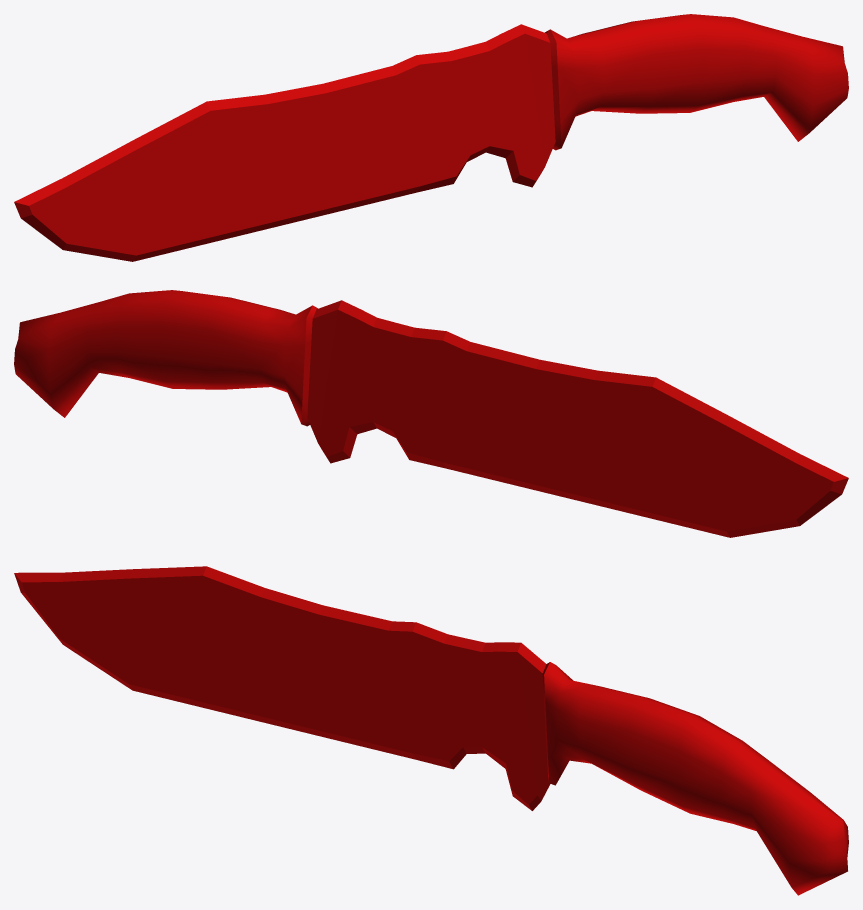
Rendered from prefab_cuchillo.fbx.
3 renders of one model, top to bottom at view 1: azimuth 30°, elevation 25°; view 2: azimuth 150°, elevation 25°; view 3: azimuth 330°, elevation 25°, orthographic.
Parts seen in each view (by area): view 1: w; view 2: w; view 3: w.
Boxes of the visible parts, <box> form: w: <box>14,14,848,261</box>; w: <box>14,290,848,537</box>; w: <box>14,566,848,895</box>.
Bounding box in the file's own units: 174 × 8.92 × 37.01.
